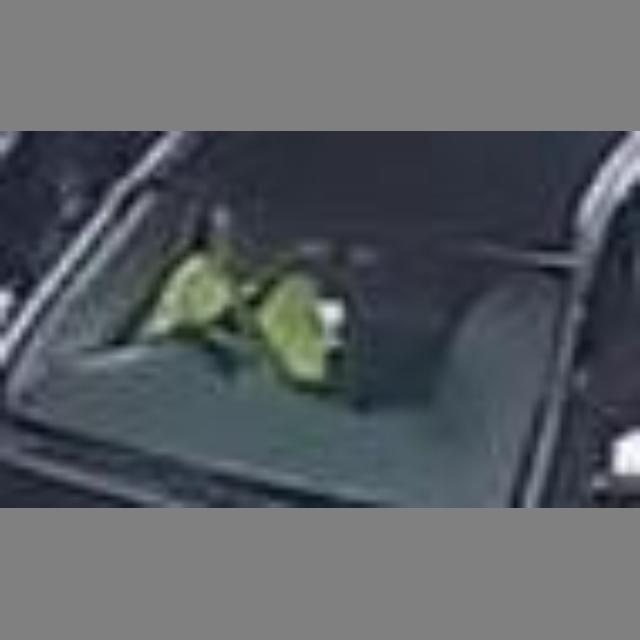tidak-pakai: (128, 205, 357, 414)
